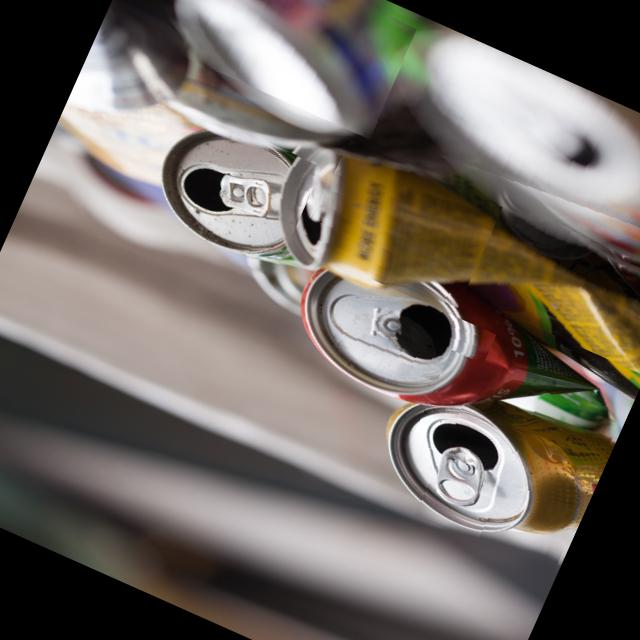Cans: (380, 19, 640, 259), (384, 349, 620, 576), (298, 136, 502, 311), (171, 0, 424, 139), (482, 204, 640, 375), (180, 125, 323, 278), (329, 274, 496, 402)
